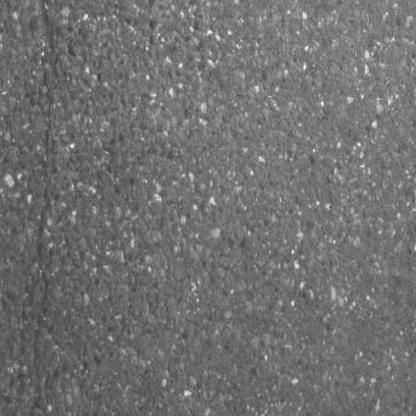Cracks: (23, 0, 66, 416)
